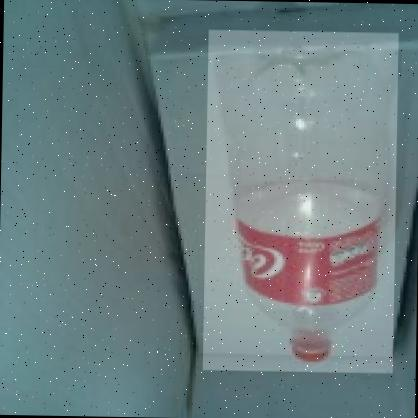bottle: (202, 29, 398, 373)
cap: (284, 338, 330, 364)
label: (225, 215, 383, 298)
